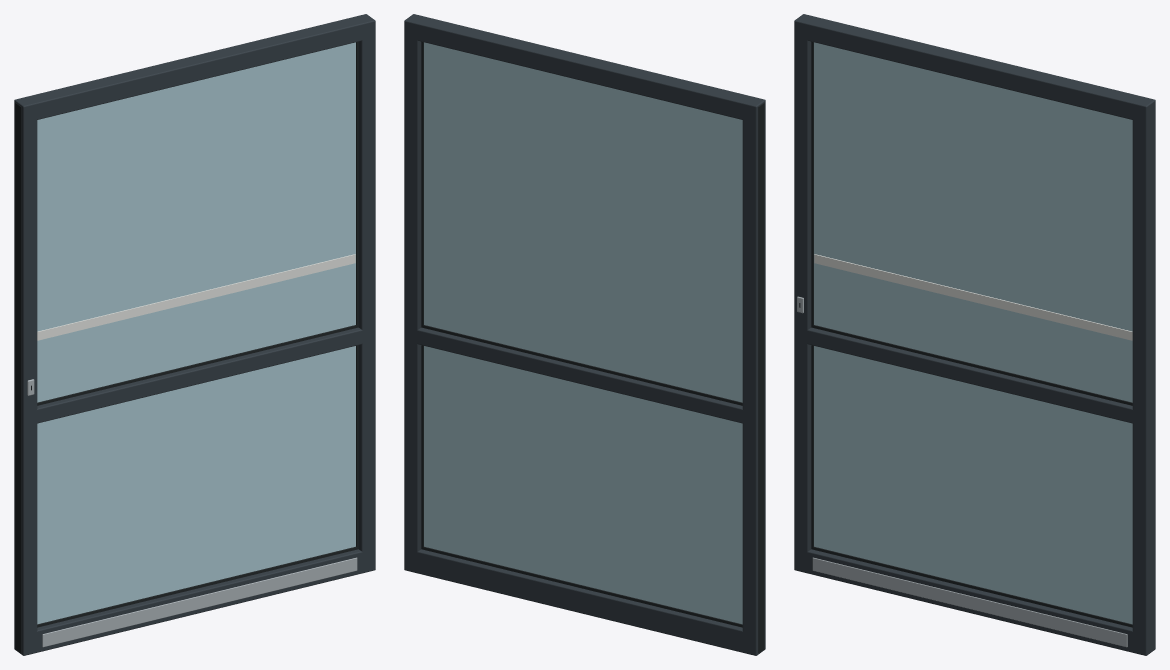
Rendered from 04_Platform_Door_R.fbx.
3 renders of one model, left to right at view 1: azimuth 30°, elevation 25°; view 2: azimuth 150°, elevation 25°; view 3: azimuth 330°, elevation 25°, orthographic.
Parts seen in each view (by area): view 1: Platform_Door_R; view 2: Platform_Door_R; view 3: Platform_Door_R.
Part boxes in pixels (x1,y1,x2,y2): Platform_Door_R: [14, 14, 375, 655]; Platform_Door_R: [404, 14, 765, 655]; Platform_Door_R: [794, 14, 1155, 655].
Size of the model in its own units: 1.49 by 2.22 by 0.078.
